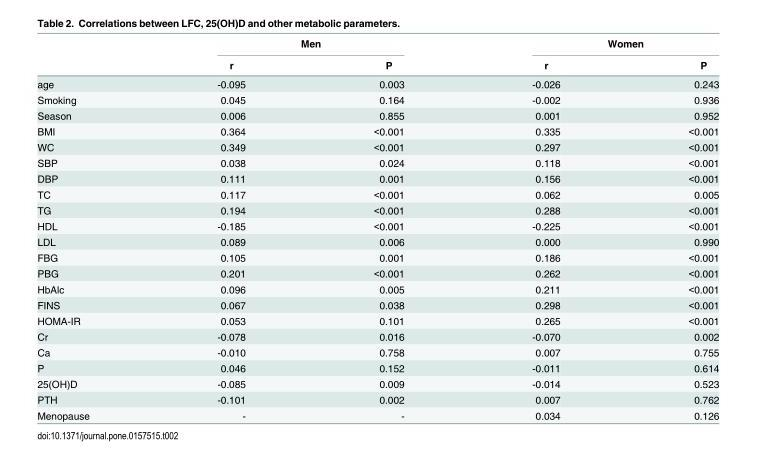table: (36, 36, 718, 420)
table column: (308, 36, 467, 420), (152, 36, 308, 420), (467, 36, 623, 420), (36, 36, 152, 420), (623, 36, 718, 420)
table column header: (36, 36, 718, 74)
table row: (36, 53, 718, 74), (36, 36, 718, 53), (36, 74, 718, 91), (36, 91, 718, 107), (36, 107, 718, 123), (36, 138, 718, 154), (36, 154, 718, 170), (36, 170, 718, 186), (36, 201, 718, 217), (36, 217, 718, 233), (36, 233, 718, 249), (36, 249, 718, 265), (36, 280, 718, 296), (36, 296, 718, 312), (36, 312, 718, 328), (36, 328, 718, 344), (36, 359, 718, 375), (36, 375, 718, 391), (36, 391, 718, 407), (36, 123, 718, 138), (36, 186, 718, 201), (36, 265, 718, 280), (36, 344, 718, 359), (36, 407, 718, 420)
table spanning cell: (152, 36, 467, 53), (467, 36, 718, 53)
